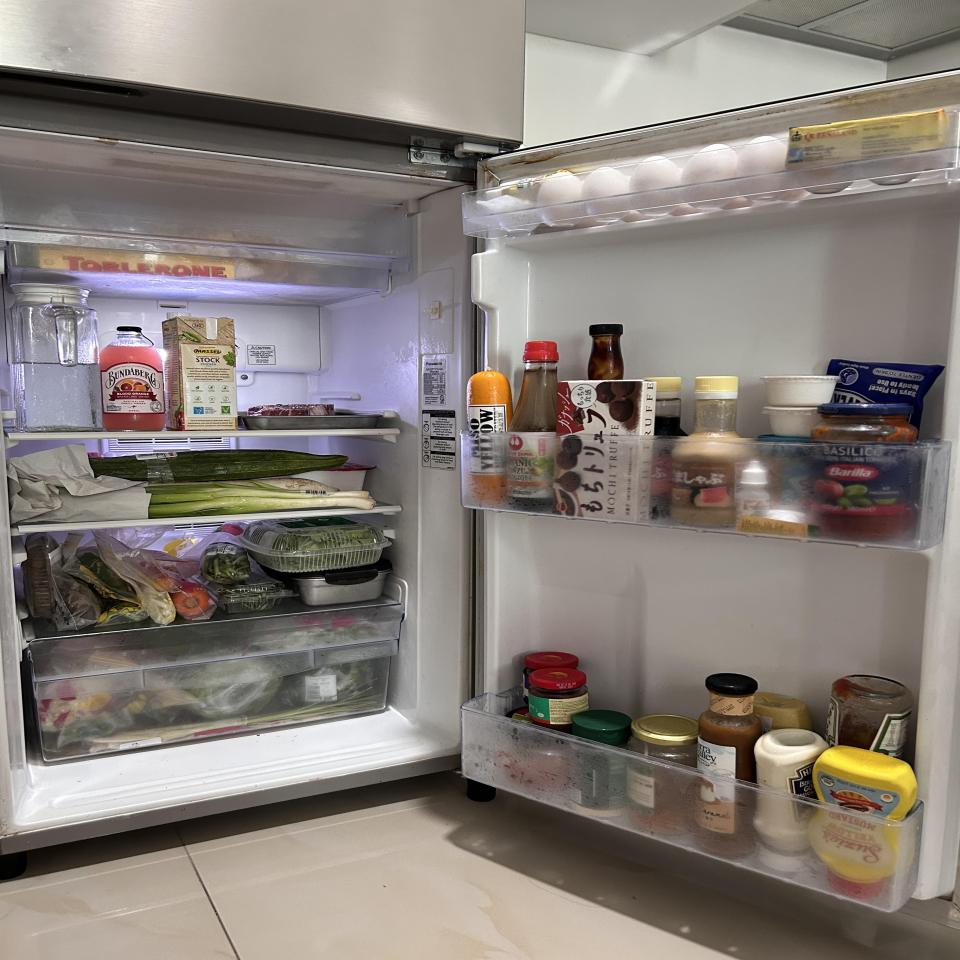Huevos: (534, 131, 787, 221)
Mantequilla: (788, 108, 950, 168)
Pepino: (87, 450, 351, 483)
